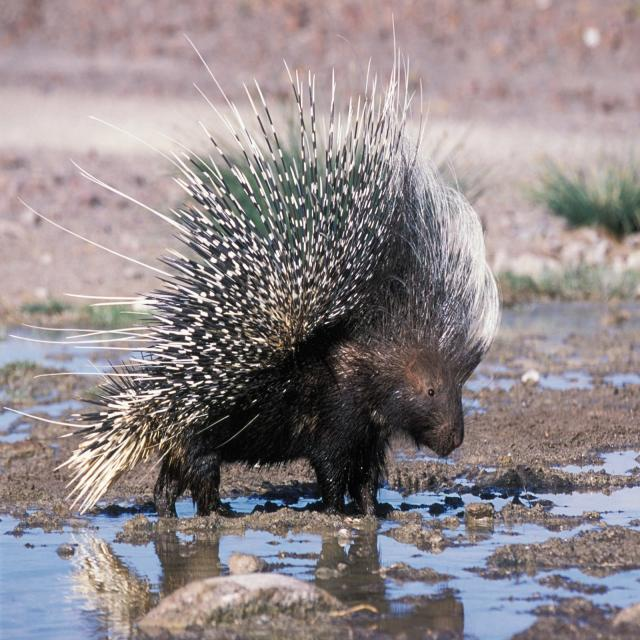porcupine: (65, 50, 501, 514)
